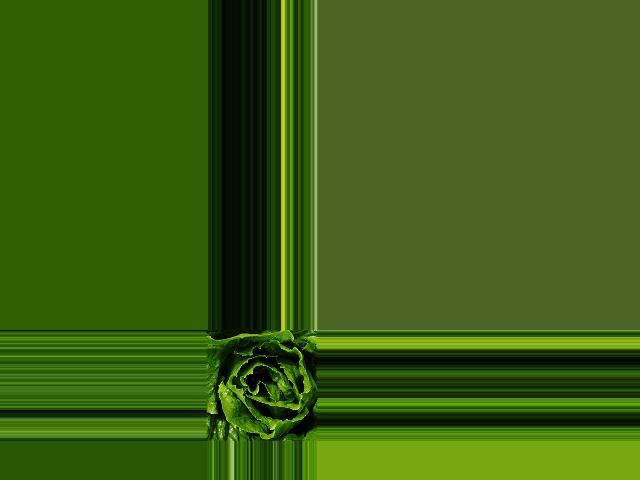lettuce: (205, 331, 316, 439)
